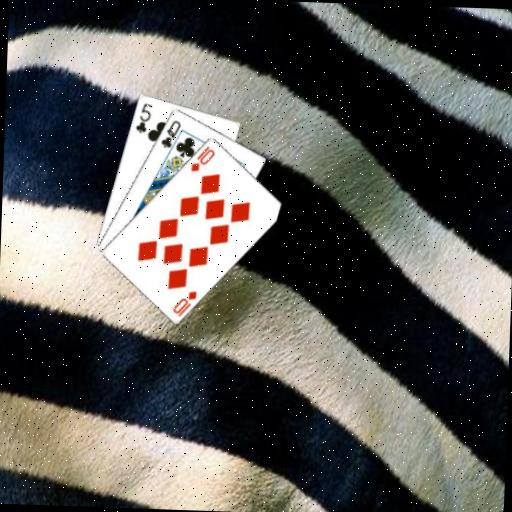10D: (169, 287, 199, 318), (187, 142, 216, 174)
5C: (132, 99, 153, 135)
QC: (157, 117, 182, 150)
